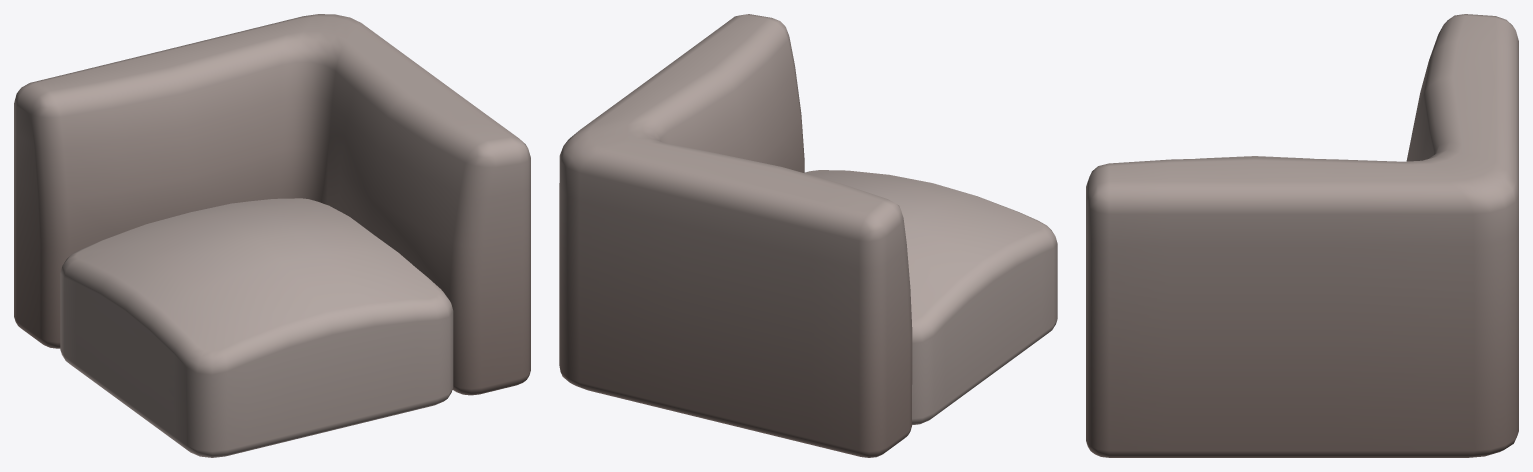
File: Couch_16.glb
3 renders of one model, left to right at view 1: azimuth 30°, elevation 25°; view 2: azimuth 150°, elevation 25°; view 3: azimuth 270°, elevation 25°, orthographic. The views are drawn at different scales.
Parts seen in each view (by area): view 1: Couch_16; view 2: Couch_16; view 3: Couch_16.
Boxes of the visible parts, x1,y1,x2,y2 form: Couch_16: [14, 14, 530, 457]; Couch_16: [559, 14, 1057, 457]; Couch_16: [1086, 14, 1518, 457].
Bounding box in the file's own units: 0.8969 × 0.6255 × 0.8969.
1 material, 1 textured.
